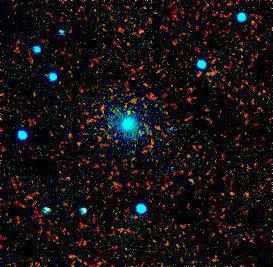star: (112, 95, 142, 125)
